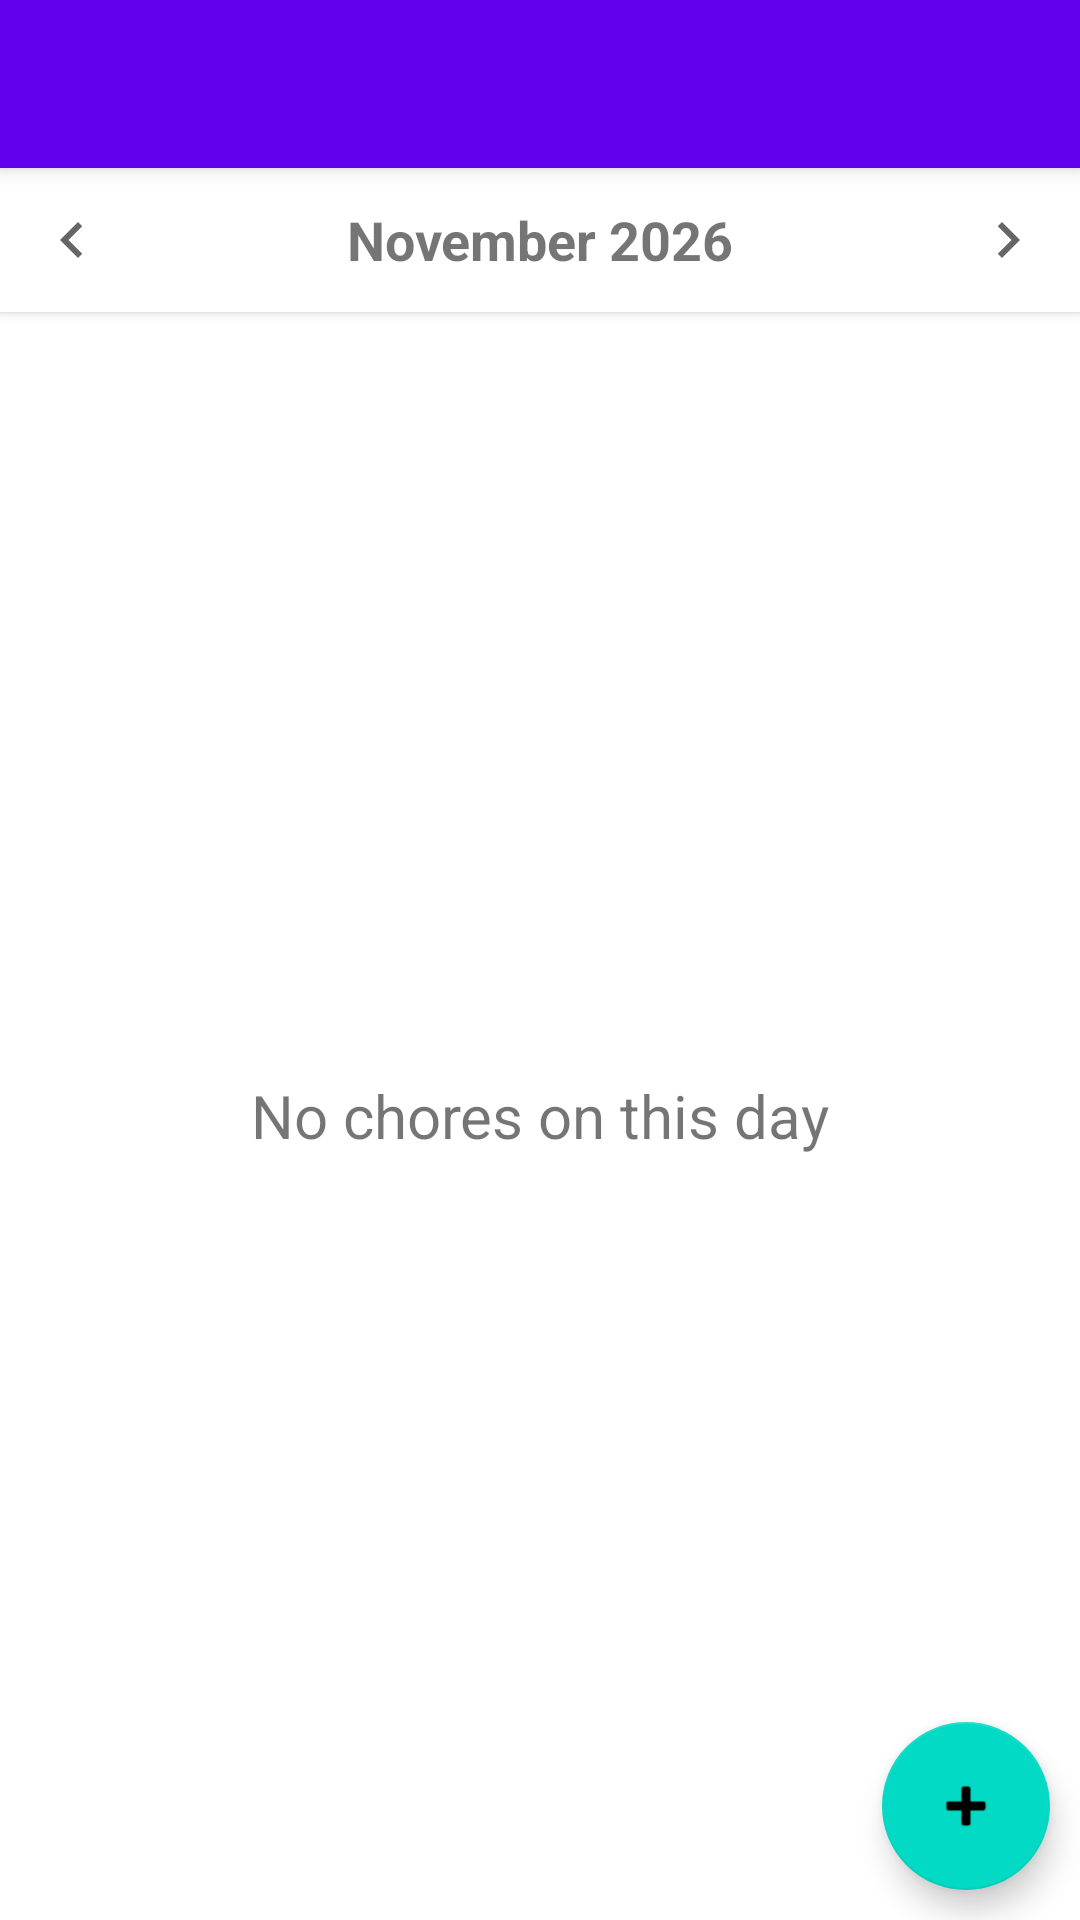

Named icons in this screenshot (1080x1920) and their centers, [x,y]:
Add a new chore: [966,1806]
Next: [1009,240]
Previous: [71,240]
